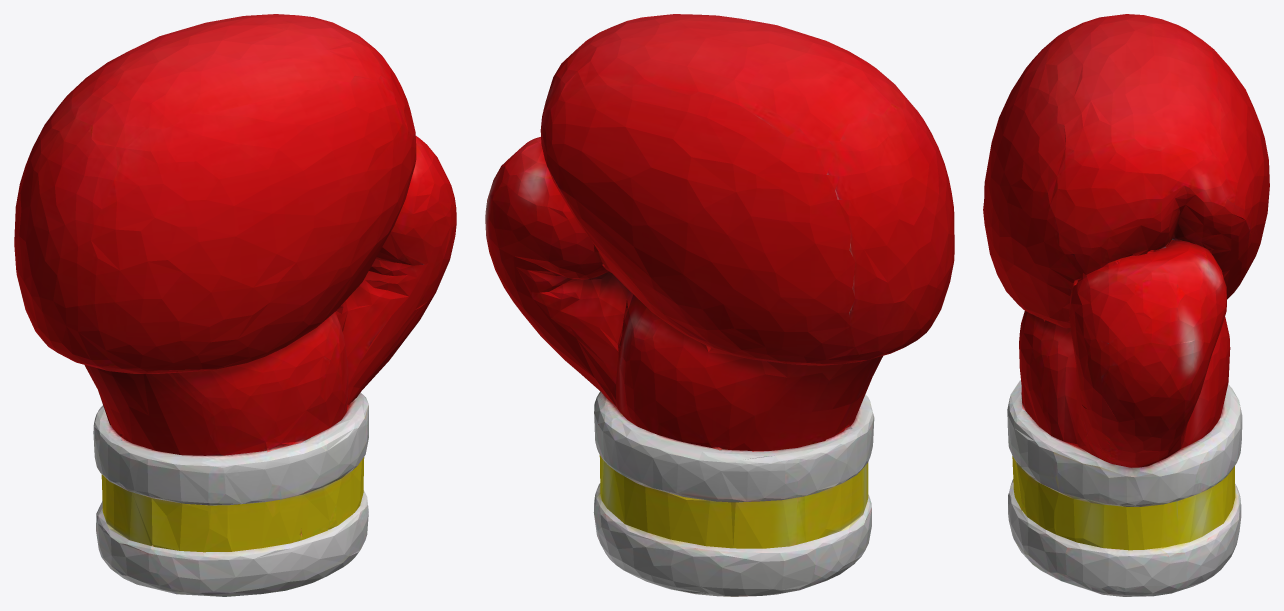
File: gant.glb
The picture shows the model from 3 angles, left to right: view 1: azimuth 30°, elevation 25°; view 2: azimuth 150°, elevation 25°; view 3: azimuth 270°, elevation 25°; orthographic projection. The views are drawn at different scales.
Visible parts, largest first — view 1: geometry_0; view 2: geometry_0; view 3: geometry_0.
Part boxes in pixels (box(x1,y1,x2,y2)): geometry_0: box(14, 14, 456, 596); geometry_0: box(485, 14, 954, 596); geometry_0: box(983, 14, 1269, 596).
Bounding box in the file's own units: 0.8537 × 0.9984 × 0.5187.
1 material, 1 textured.
